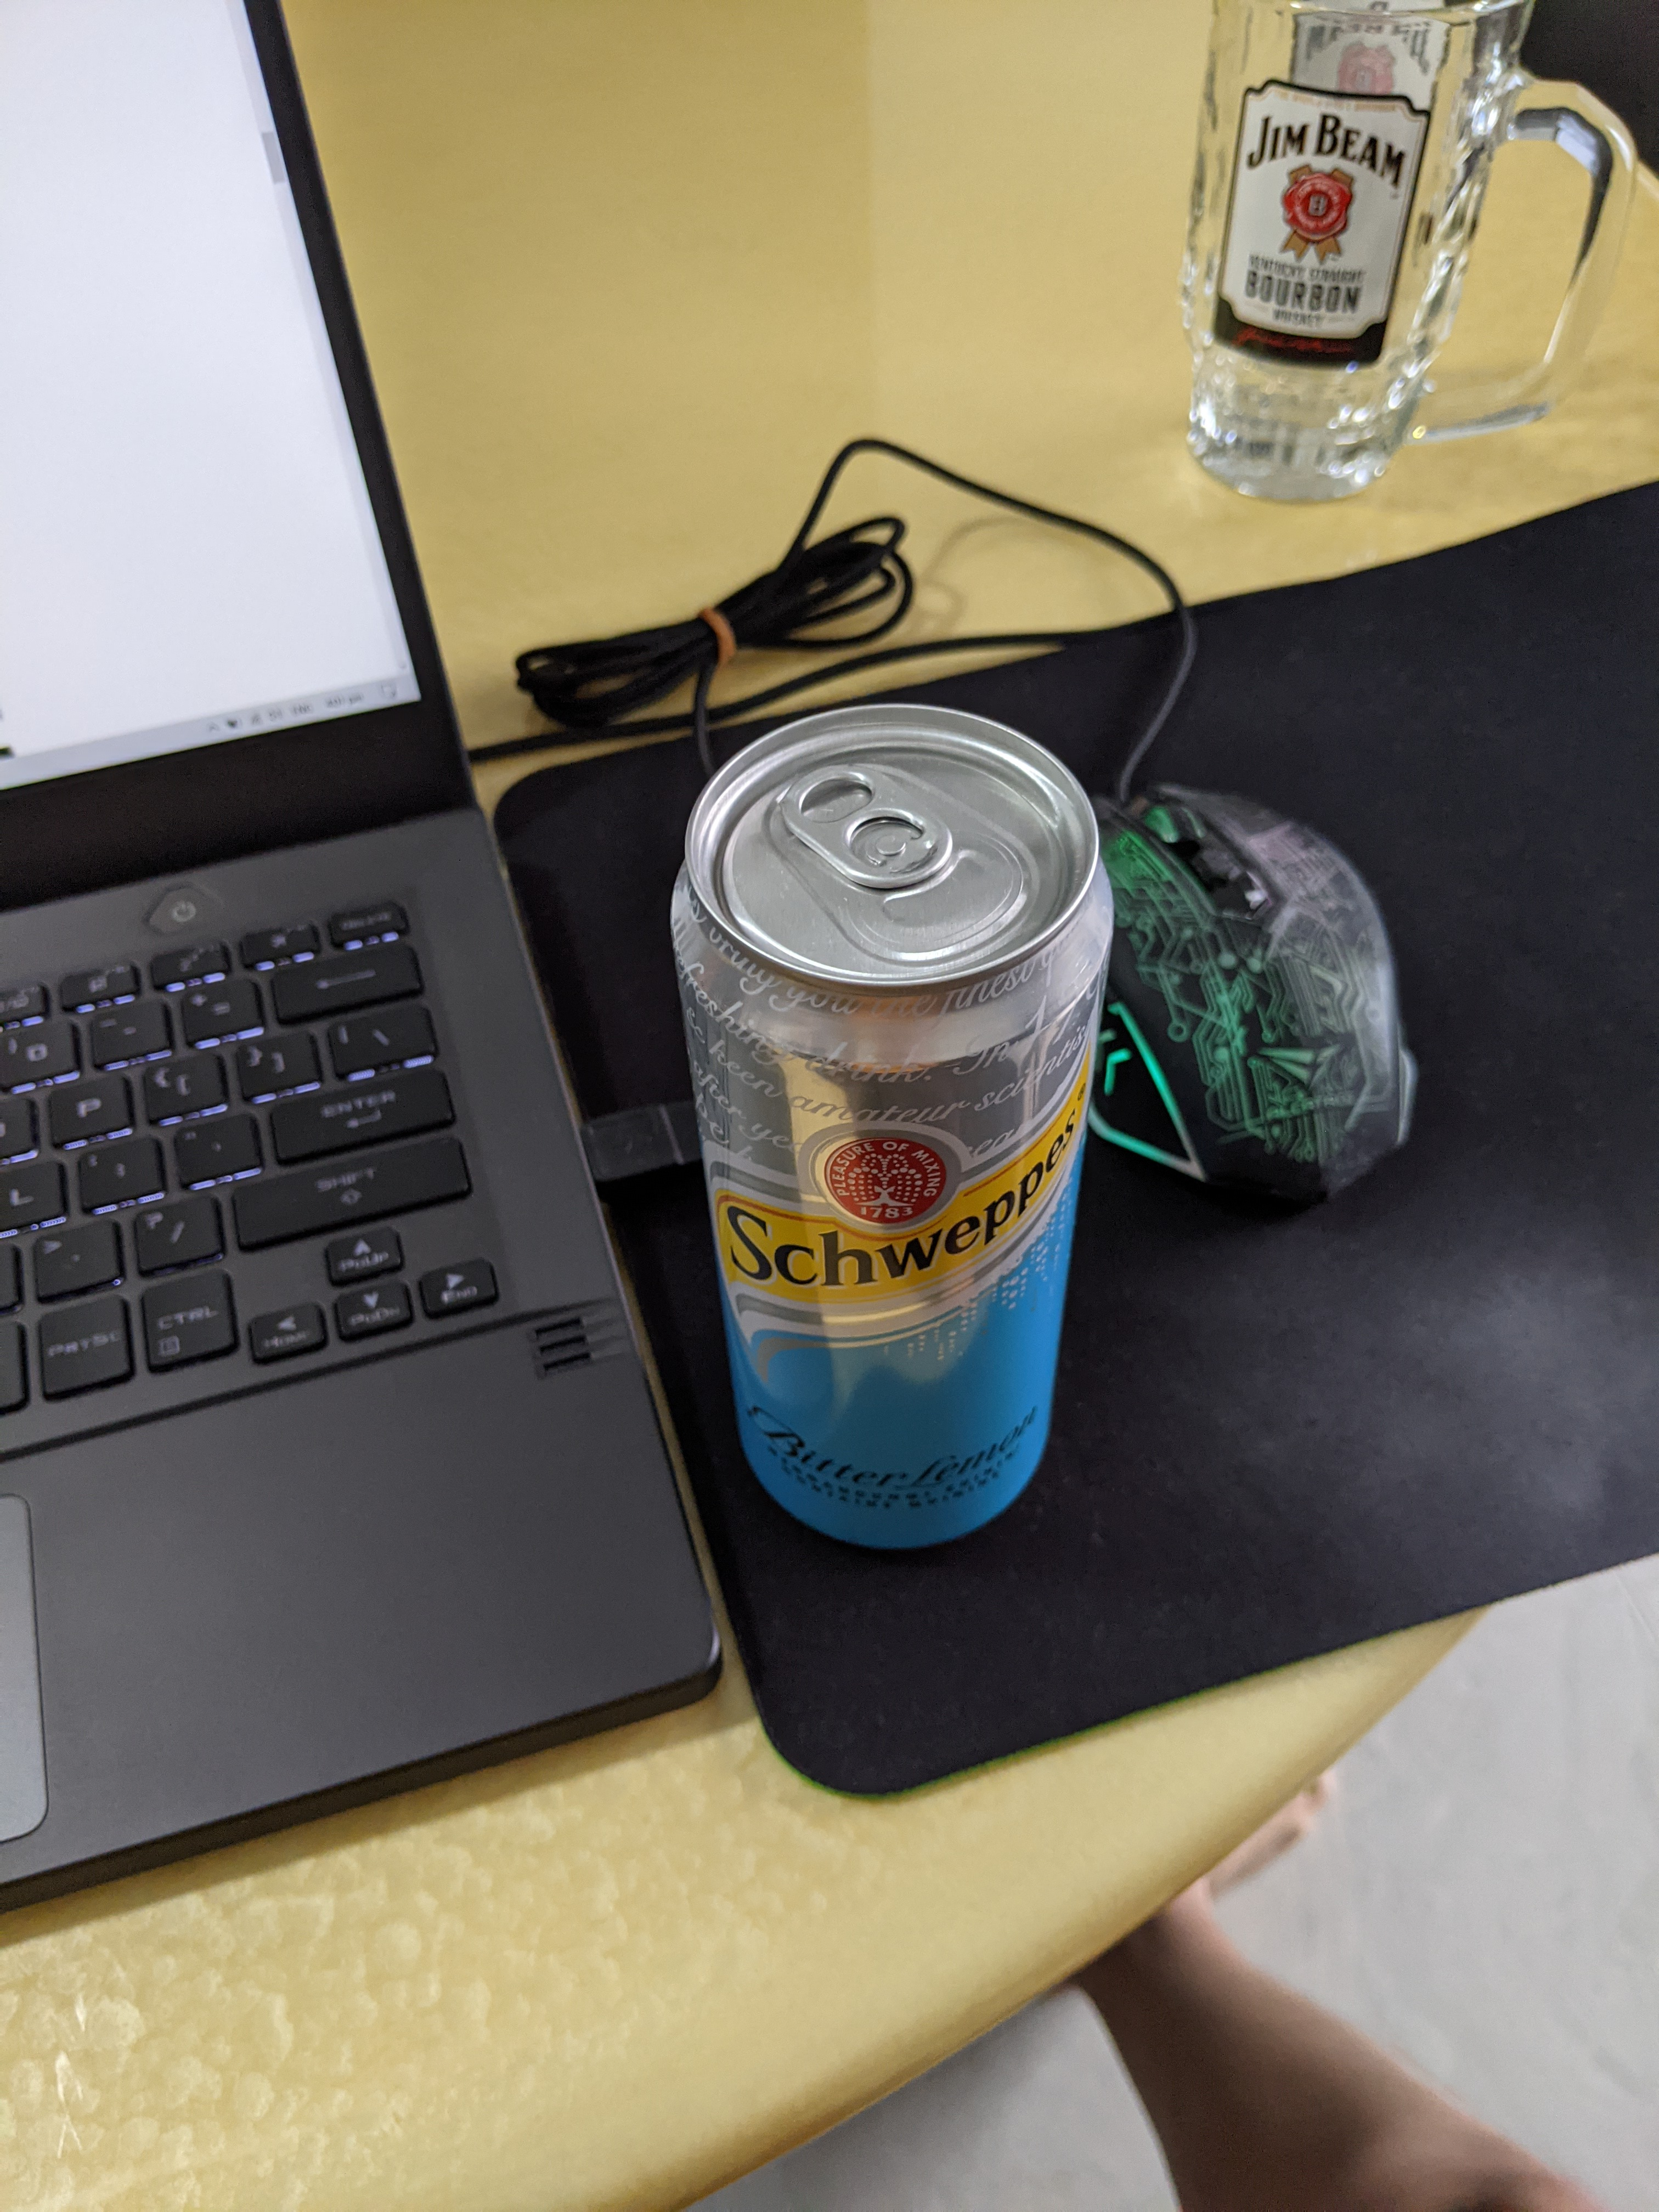schweppes drink can bitter lemon: (643, 676, 1148, 1594)
